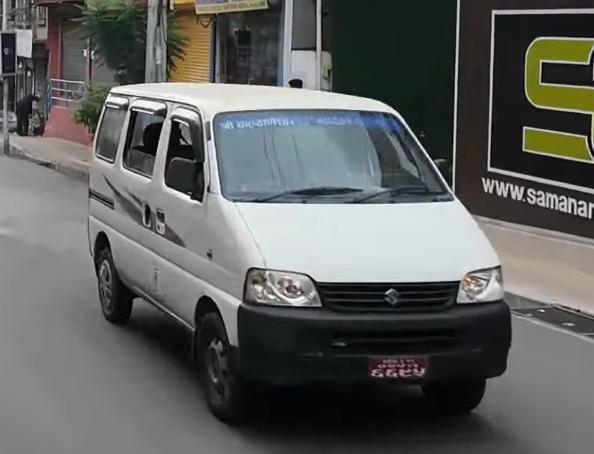van: (85, 74, 520, 425)
